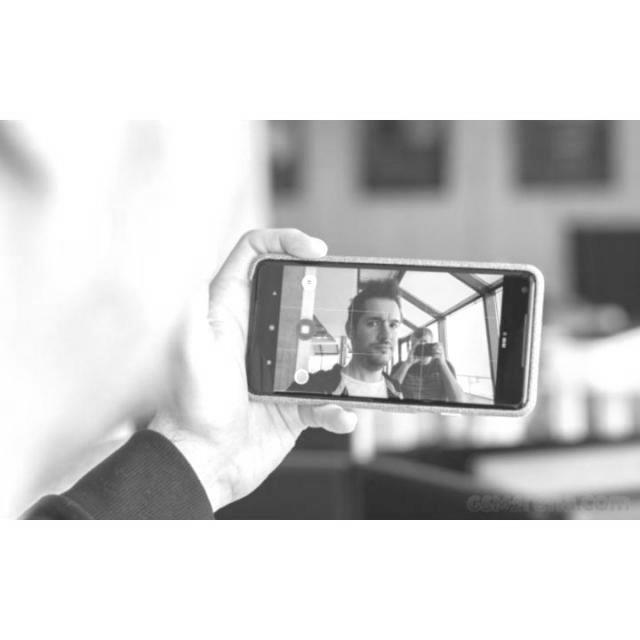fake: (237, 247, 548, 420)
